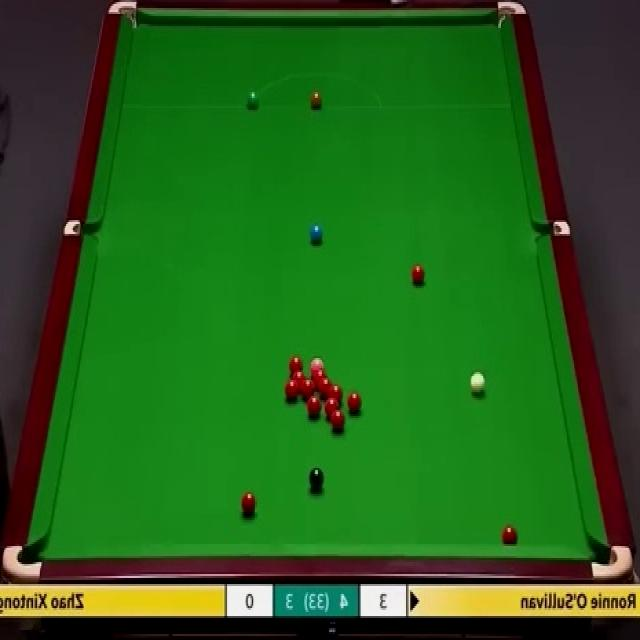pocket: (589, 543, 635, 585), (4, 543, 44, 582), (110, 0, 139, 32), (497, 0, 527, 28), (538, 218, 572, 238), (66, 220, 100, 235)
